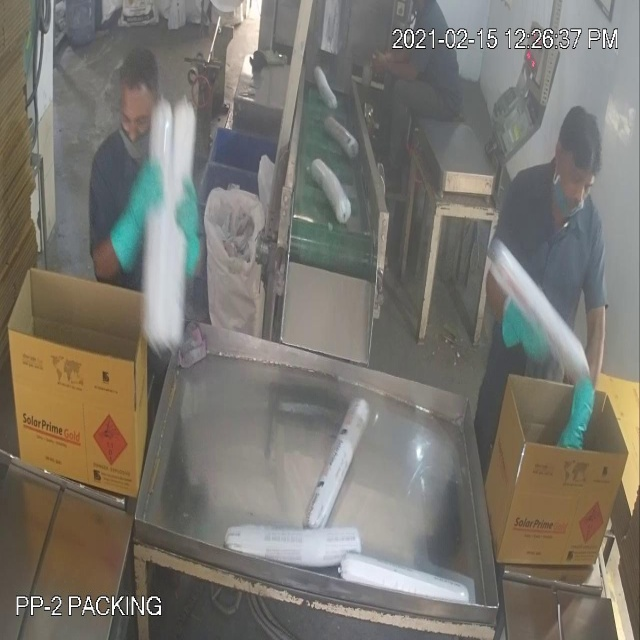Guantes: (105, 157, 161, 276), (493, 274, 558, 372), (174, 173, 204, 264)
Sin_guantes: (364, 39, 430, 95)
